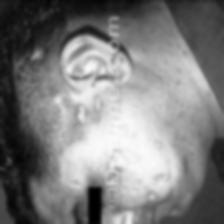Unclassified: (135, 16, 171, 116), (122, 123, 165, 171), (129, 161, 173, 201), (70, 138, 106, 186), (176, 47, 188, 178), (74, 88, 108, 124), (44, 186, 70, 210), (31, 40, 45, 62), (52, 90, 72, 100)
